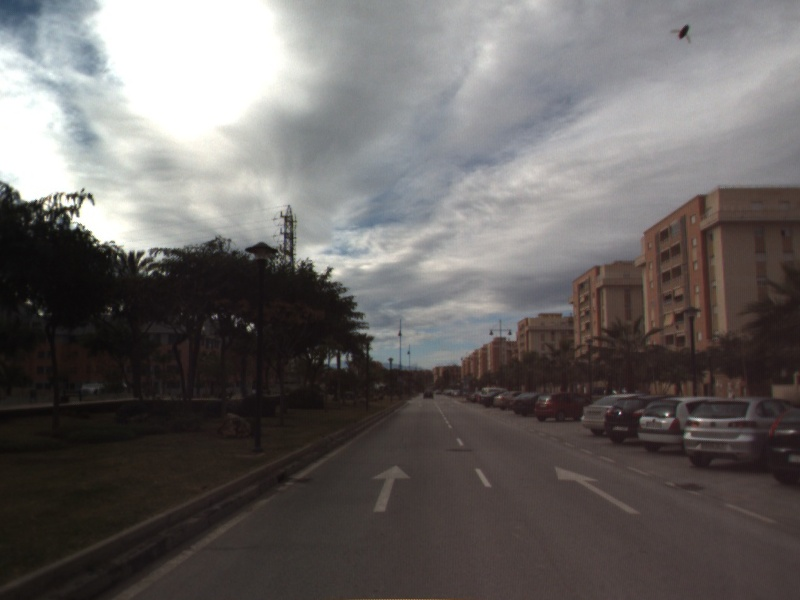STRAIGHT: (553, 464, 643, 516), (370, 463, 413, 514)
